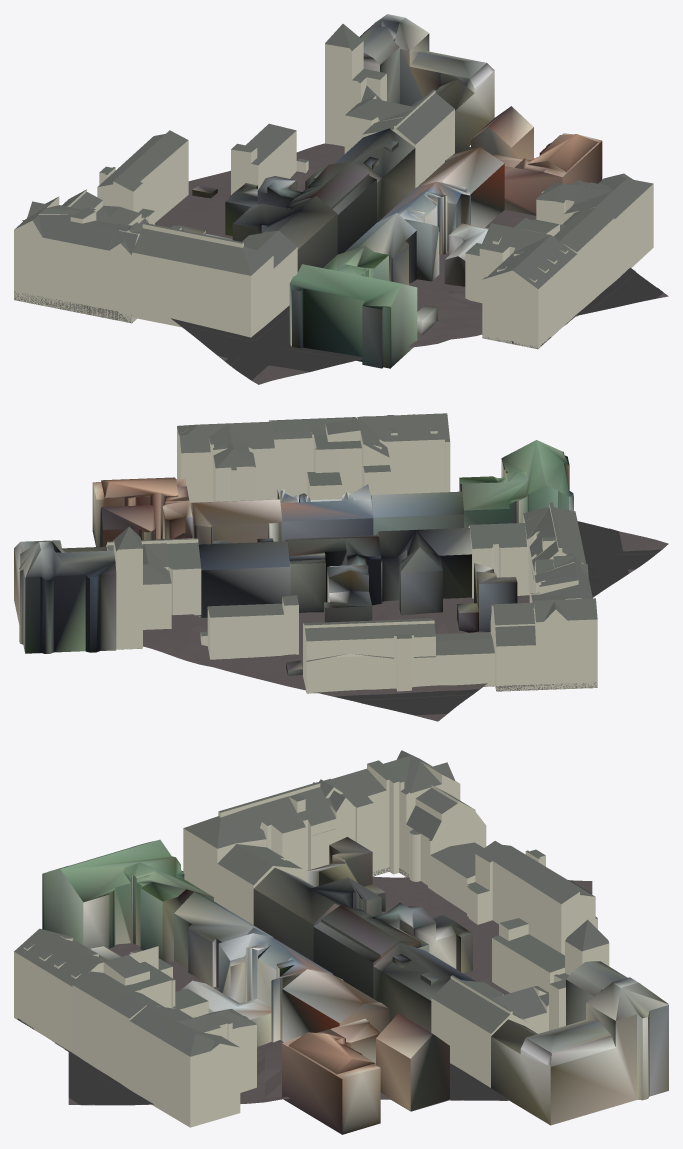
3 renders of one model, top to bottom at view 1: azimuth 30°, elevation 25°; view 2: azimuth 150°, elevation 25°; view 3: azimuth 270°, elevation 25°, orthographic. The views are drawn at different scales.
Parts seen in each view (by area): view 1: c_m06_p07; view 2: c_m06_p07; view 3: c_m06_p07.
Part boxes in pixels (x1,y1,x2,y2): c_m06_p07: (14,14,668,384); c_m06_p07: (14,413,668,721); c_m06_p07: (14,750,668,1134).
Bounding box in the file's own units: 173 × 37.9 × 160.
